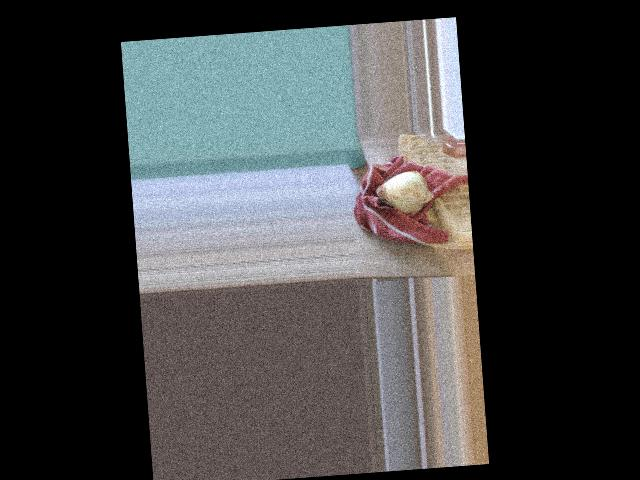onion: (378, 167, 430, 217)
